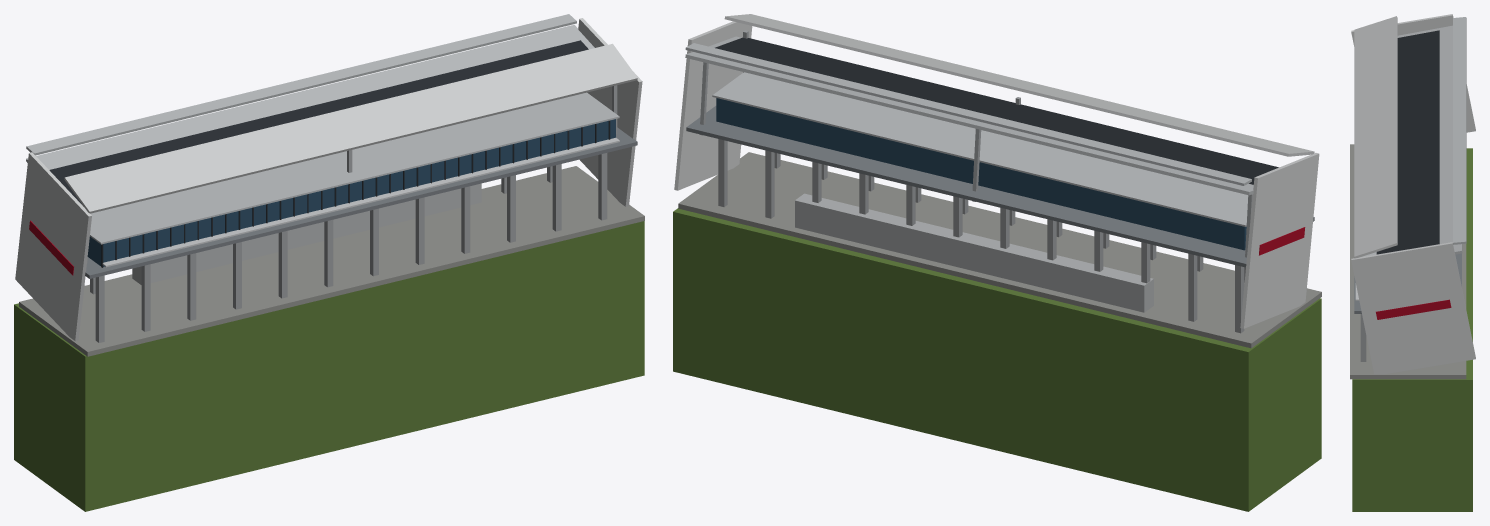
File: redbullring-asa.glb
3 views of the same model, side by side, from view 1: azimuth 30°, elevation 25°; view 2: azimuth 150°, elevation 25°; view 3: azimuth 270°, elevation 25° (orthographic). The views are drawn at different scales.
Parts seen in each view (by area): view 1: redbullring-asa; view 2: redbullring-asa; view 3: redbullring-asa.
Part boxes in pixels (bbox=[...]): redbullring-asa: bbox=[14, 14, 644, 511]; redbullring-asa: bbox=[673, 14, 1321, 511]; redbullring-asa: bbox=[1350, 14, 1475, 511].
Size of the model in its own units: 102 by 54.9 by 23.44.
